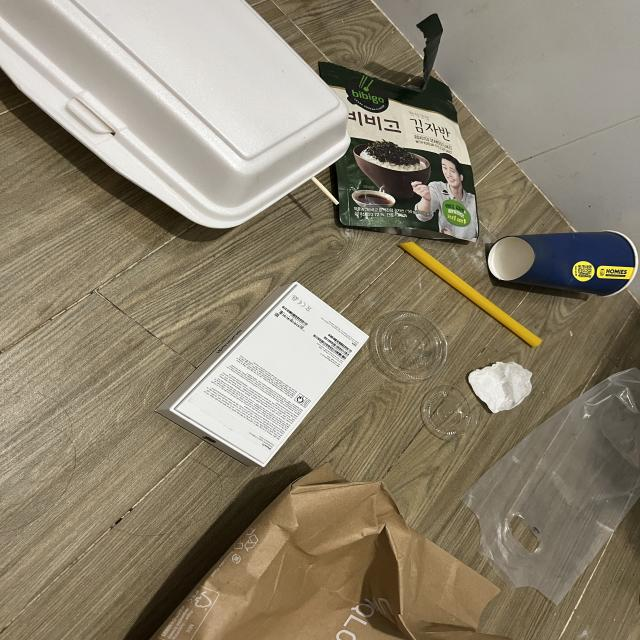bag: (147, 463, 515, 640), (462, 364, 640, 609)
cardboard box: (157, 280, 369, 469)
drinking straw: (399, 242, 544, 348)
foam box: (0, 0, 350, 227)
lid: (372, 312, 450, 384), (421, 384, 480, 440)
napkin: (468, 360, 535, 413)
plastic glass: (486, 230, 640, 298)
snack package: (318, 10, 478, 244)
